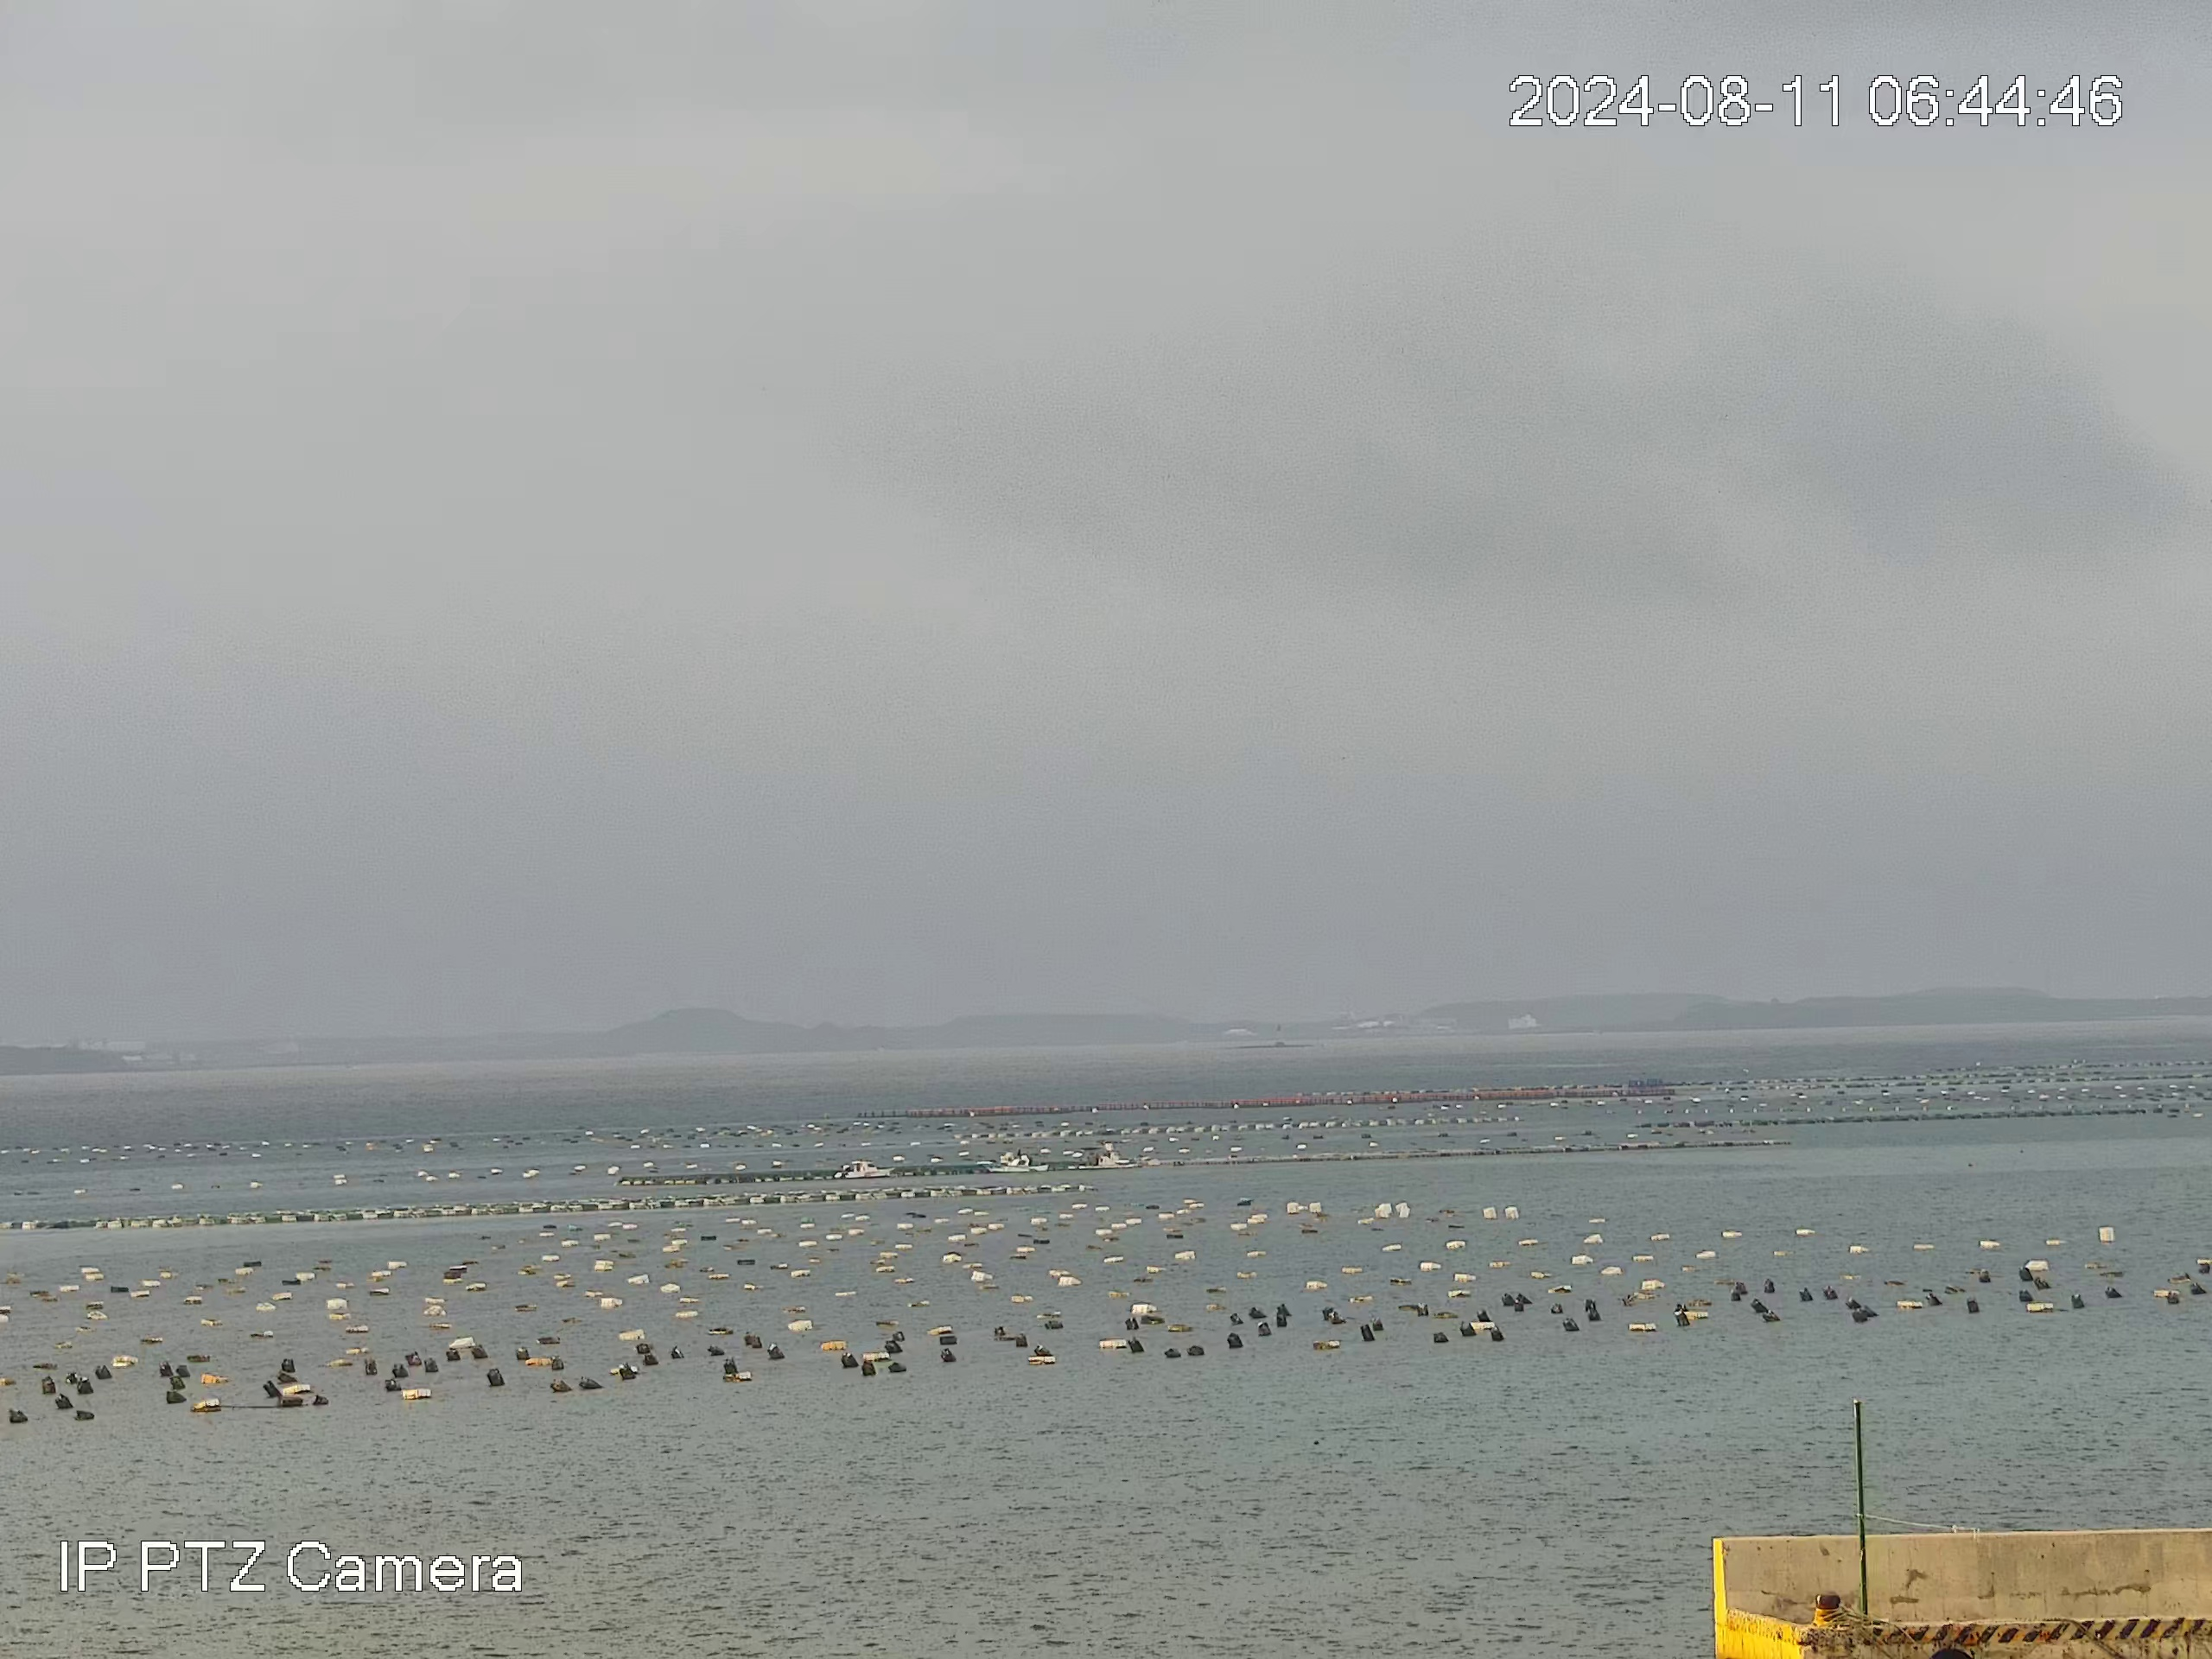boat: (982, 1152, 1050, 1173), (831, 1159, 892, 1180), (1066, 1150, 1118, 1171)
